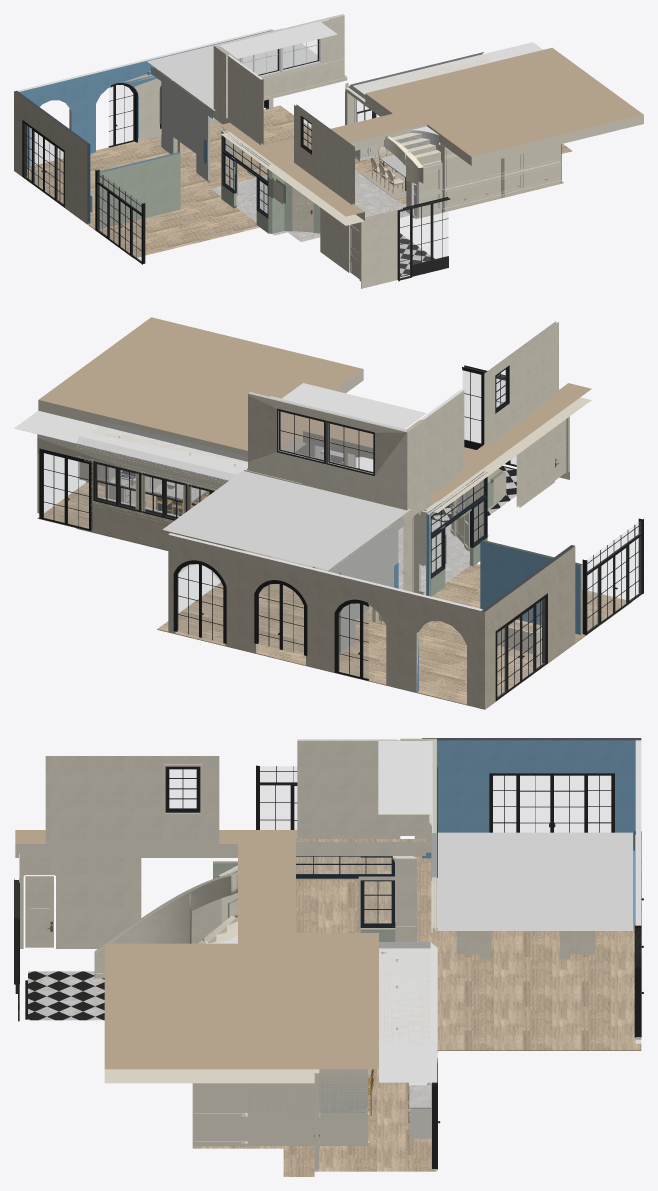
File: kitchen-e92730467d5c.glb
The picture shows the model from 3 angles, top to bottom: view 1: azimuth 30°, elevation 25°; view 2: azimuth 150°, elevation 25°; view 3: azimuth 270°, elevation 25°; orthographic projection. The views are drawn at different scales.
Visible parts, largest first — view 1: kitchen-look-2575515a05775d9e, kitchen-look-3b0077416469e01b, kitchen-look-969b861f9850351e, kitchen-look-b19b106fc304963c, kitchen-19647d6da46c2b80, kitchen-look-039192b0560cfac3, kitchen-look-698abdfdc6fb970d, kitchen-look-4a969f5cc1ae3dfe, kitchen-look-746250f96522f643, kitchen-look-55ff1dfd7b659ec1, kitchen-look-08d72923bcfd3529, kitchen-look-245f595ae2832e16 (+28 smaller); view 2: kitchen-look-2575515a05775d9e, kitchen-look-969b861f9850351e, kitchen-look-3b0077416469e01b, kitchen-look-4a969f5cc1ae3dfe, kitchen-look-245f595ae2832e16, kitchen-look-039192b0560cfac3, kitchen-look-746250f96522f643, kitchen-bfb9fa537cd11d1d, kitchen-look-08d72923bcfd3529, kitchen-look-b57b1dfcc6ff1bca, kitchen-look-7f59123d155b94ce, kitchen-look-9fbf623a647a21dd (+28 smaller); view 3: kitchen-look-2575515a05775d9e, kitchen-look-3b0077416469e01b, kitchen-look-4a969f5cc1ae3dfe, kitchen-look-746250f96522f643, kitchen-look-039192b0560cfac3, kitchen-look-7f59123d155b94ce, kitchen-look-85f0fd939e0fcc78, kitchen-look-9fbf623a647a21dd, kitchen-9a0e9ee9b2a451d7, kitchen-look-9d91b47435c6fb33, kitchen-5b6bbac285e58726, kitchen-look-c4ac463b6a960119 (+25 smaller).
Boxes of the visible parts, <box> form: kitchen-look-2575515a05775d9e: <box>221,47,643,225</box>; kitchen-look-3b0077416469e01b: <box>14,105,572,257</box>; kitchen-look-969b861f9850351e: <box>17,28,273,168</box>; kitchen-look-b19b106fc304963c: <box>99,152,180,229</box>; kitchen-19647d6da46c2b80: <box>444,144,560,207</box>; kitchen-look-039192b0560cfac3: <box>14,91,90,223</box>; kitchen-look-698abdfdc6fb970d: <box>397,197,450,281</box>; kitchen-look-4a969f5cc1ae3dfe: <box>147,28,346,110</box>; kitchen-look-746250f96522f643: <box>294,104,354,205</box>; kitchen-look-55ff1dfd7b659ec1: <box>151,67,214,180</box>; kitchen-look-08d72923bcfd3529: <box>95,169,145,264</box>; kitchen-look-245f595ae2832e16: <box>213,14,344,108</box>; kitchen-look-2575515a05775d9e: <box>38,317,591,512</box>; kitchen-look-969b861f9850351e: <box>168,533,482,707</box>; kitchen-look-3b0077416469e01b: <box>37,479,631,709</box>; kitchen-look-4a969f5cc1ae3dfe: <box>162,470,410,570</box>; kitchen-look-245f595ae2832e16: <box>248,392,407,510</box>; kitchen-look-039192b0560cfac3: <box>481,545,575,708</box>; kitchen-look-746250f96522f643: <box>484,321,558,445</box>; kitchen-bfb9fa537cd11d1d: <box>76,444,246,551</box>; kitchen-look-08d72923bcfd3529: <box>582,518,643,635</box>; kitchen-look-b57b1dfcc6ff1bca: <box>173,560,226,643</box>; kitchen-look-7f59123d155b94ce: <box>418,389,464,511</box>; kitchen-look-9fbf623a647a21dd: <box>495,593,547,701</box>; kitchen-look-2575515a05775d9e: <box>15,830,378,1083</box>; kitchen-look-3b0077416469e01b: <box>283,856,641,1176</box>; kitchen-look-4a969f5cc1ae3dfe: <box>437,832,632,930</box>; kitchen-look-746250f96522f643: <box>45,756,219,843</box>; kitchen-look-039192b0560cfac3: <box>422,738,641,858</box>; kitchen-look-7f59123d155b94ce: <box>297,739,400,838</box>; kitchen-look-85f0fd939e0fcc78: <box>19,858,141,948</box>; kitchen-look-9fbf623a647a21dd: <box>489,773,614,832</box>; kitchen-9a0e9ee9b2a451d7: <box>379,948,436,1045</box>; kitchen-look-9d91b47435c6fb33: <box>378,741,431,814</box>; kitchen-5b6bbac285e58726: <box>246,1083,314,1147</box>; kitchen-look-c4ac463b6a960119: <box>28,971,104,1020</box>.
Bounding box in the file's own units: 20.89 × 6.36 × 16.86.
Materials: 71 (14 with a texture image).
